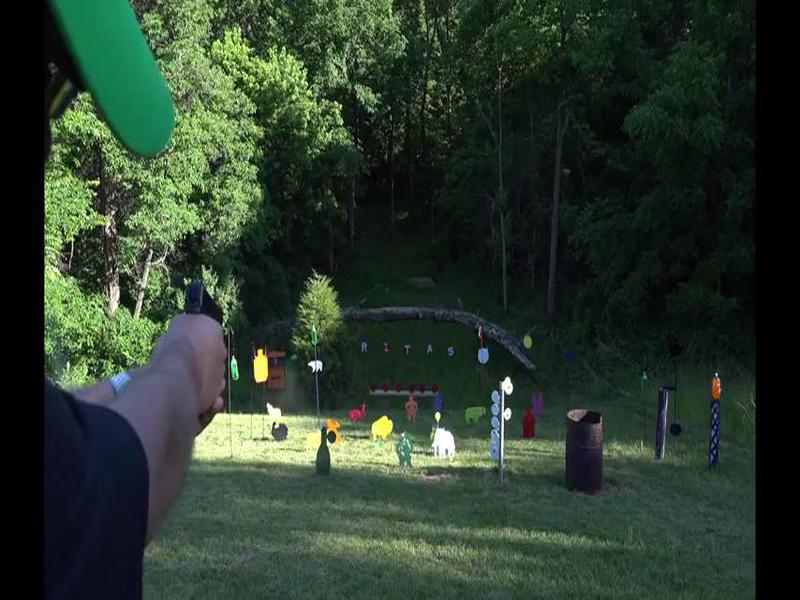Pistola: (157, 272, 258, 356)
